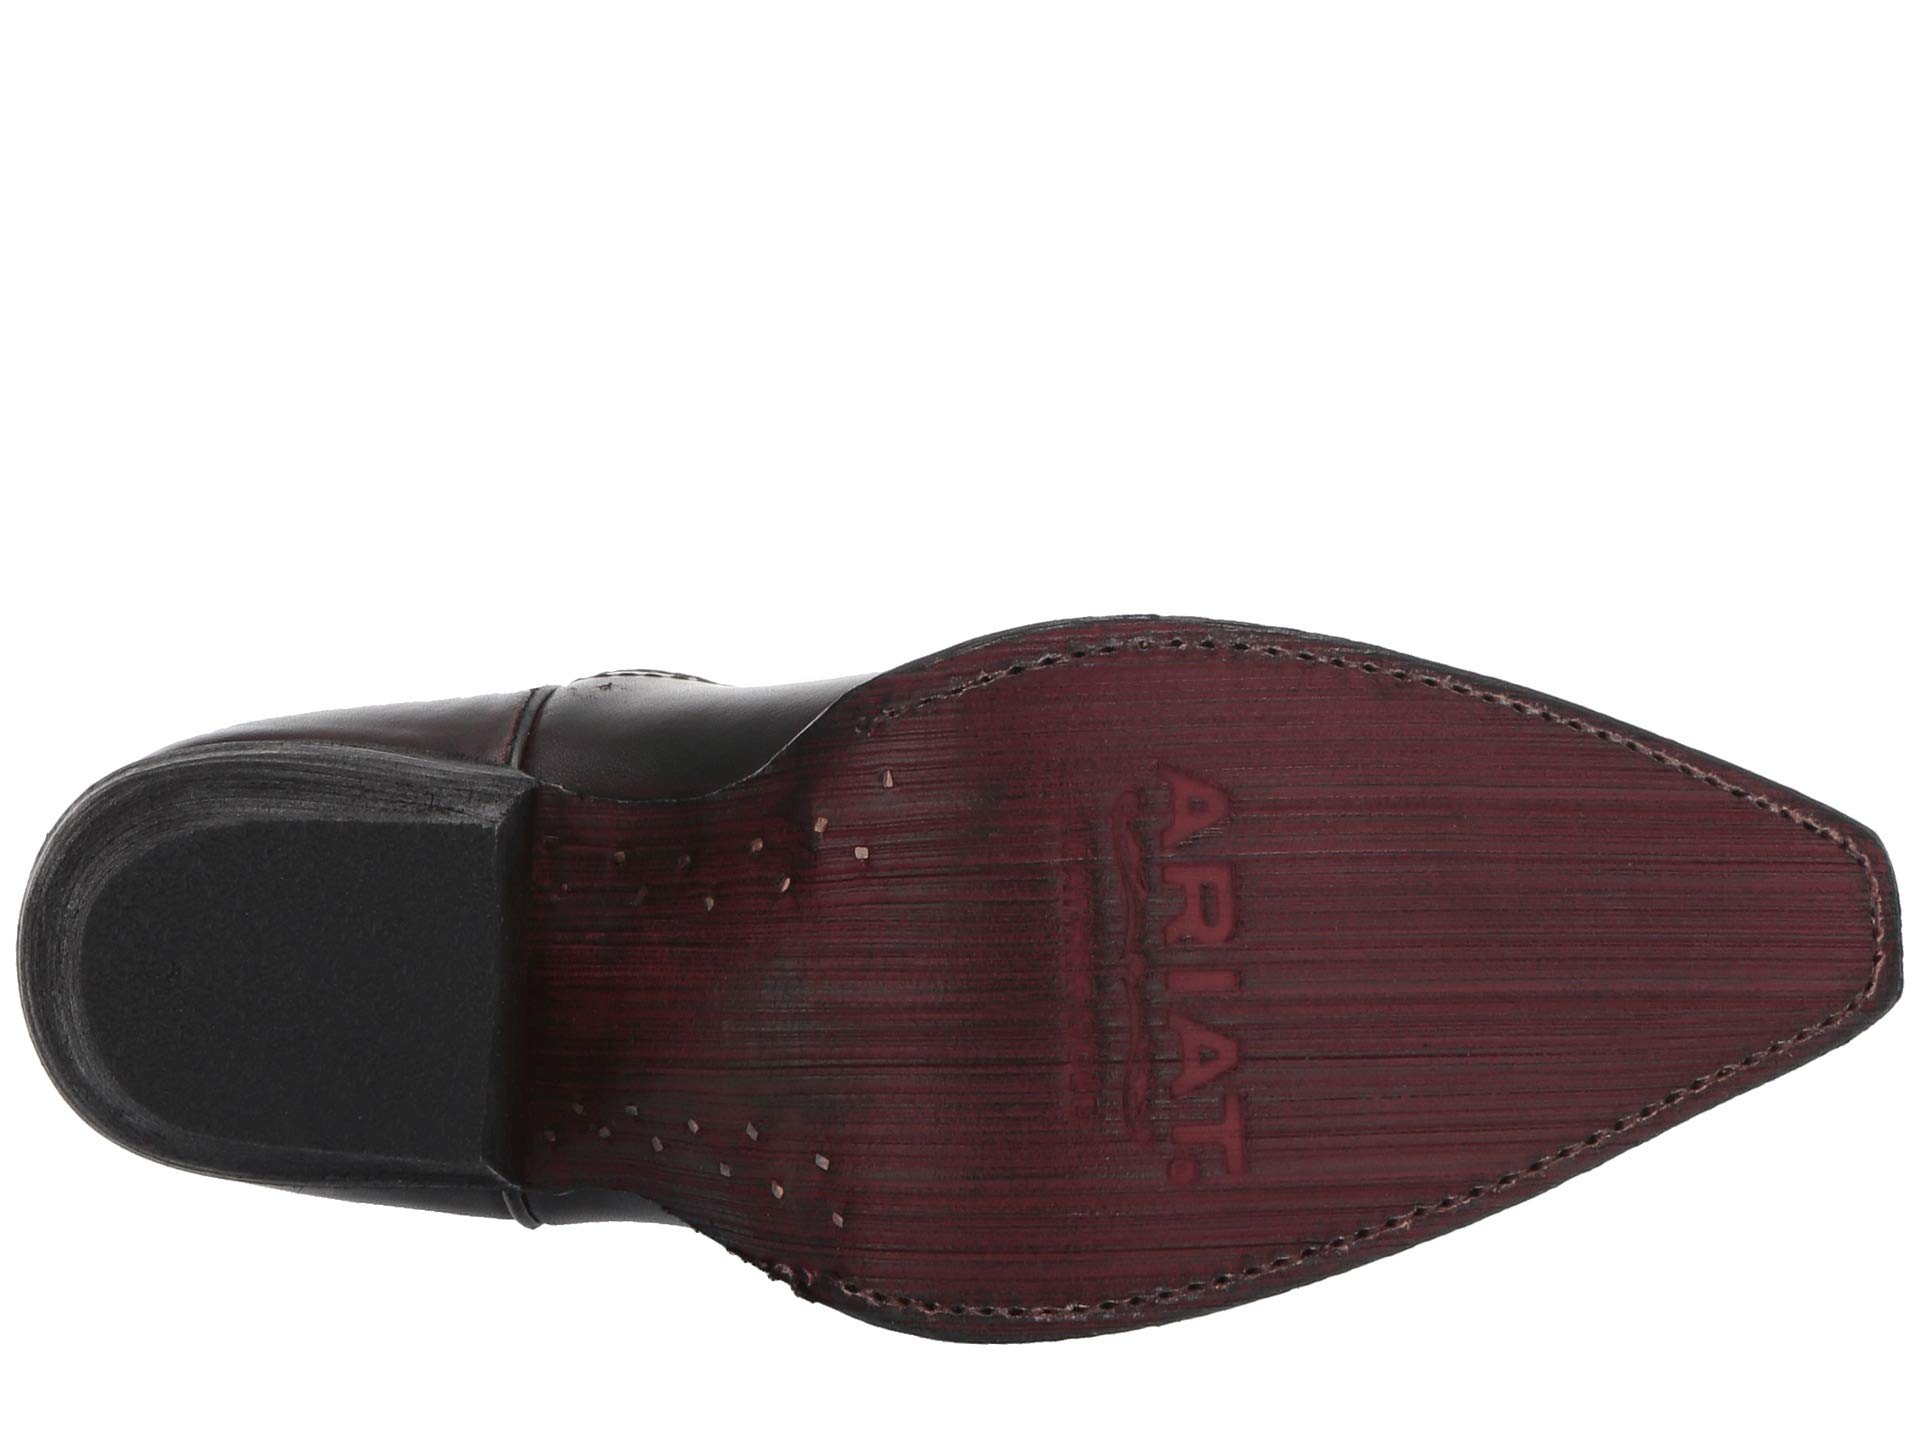circle: (1017, 715, 1276, 1230)
line: (1300, 744, 1677, 1086)
text: (1017, 715, 1276, 1230)
